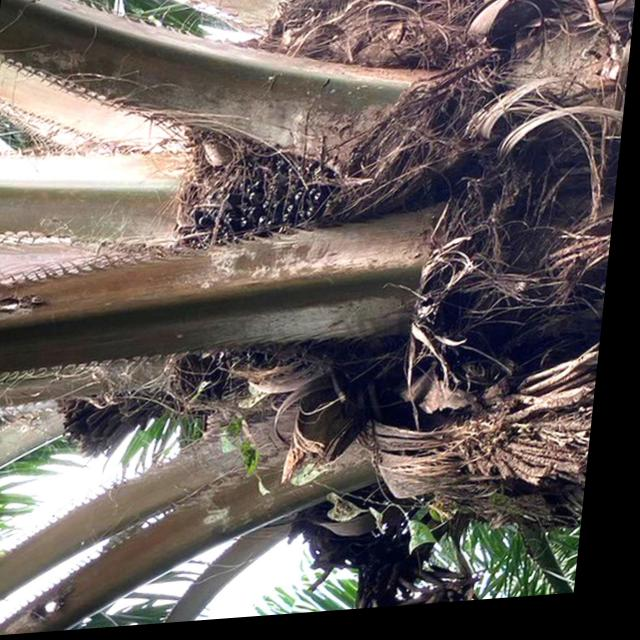almost: (157, 153, 347, 381)
